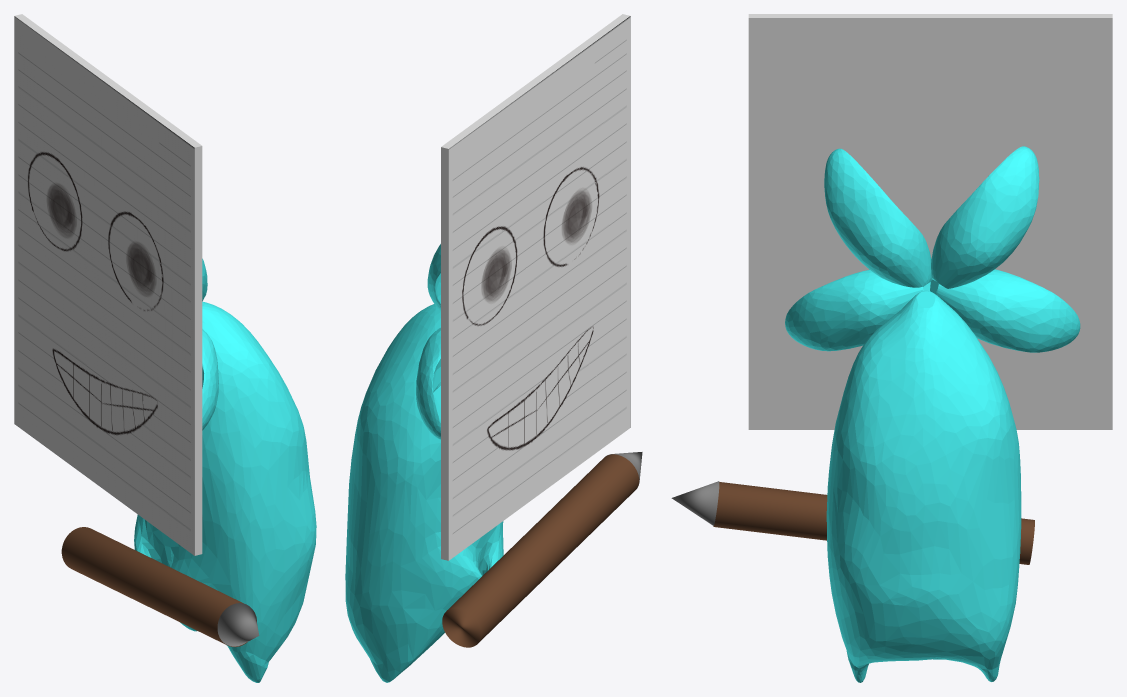
The model's file is noteyamabuki.glb.
3 renders of one model, left to right at view 1: azimuth 30°, elevation 25°; view 2: azimuth 150°, elevation 25°; view 3: azimuth 270°, elevation 25°, orthographic.
Parts seen in each view (by area): view 1: 立方体, 球.002, 円柱.013, 円柱.020, 円錐; view 2: 立方体, 球.002, 円柱.013, 円柱.020; view 3: 立方体, 球.002, 円柱.020, 円柱.013, 円錐.
Part boxes in pixels (box(x1,y1,x2,y2)): 立方体: box(14, 14, 202, 555); 球.002: box(134, 301, 316, 682); 円柱.013: box(61, 527, 256, 647); 円柱.020: box(202, 258, 218, 430); 円錐: box(217, 603, 259, 646); 立方体: box(441, 14, 630, 560); 球.002: box(345, 304, 503, 682); 円柱.013: box(442, 454, 639, 647); 円柱.020: box(416, 244, 440, 439); 立方体: box(748, 14, 1112, 429); 球.002: box(826, 290, 1021, 682); 円柱.020: box(785, 146, 1080, 352); 円柱.013: box(713, 482, 1034, 564); 円錐: box(671, 481, 719, 525).
Bounding box in the file's own units: 0.9489 × 2.96 × 1.94.
Materials: 5 (1 with a texture image).
